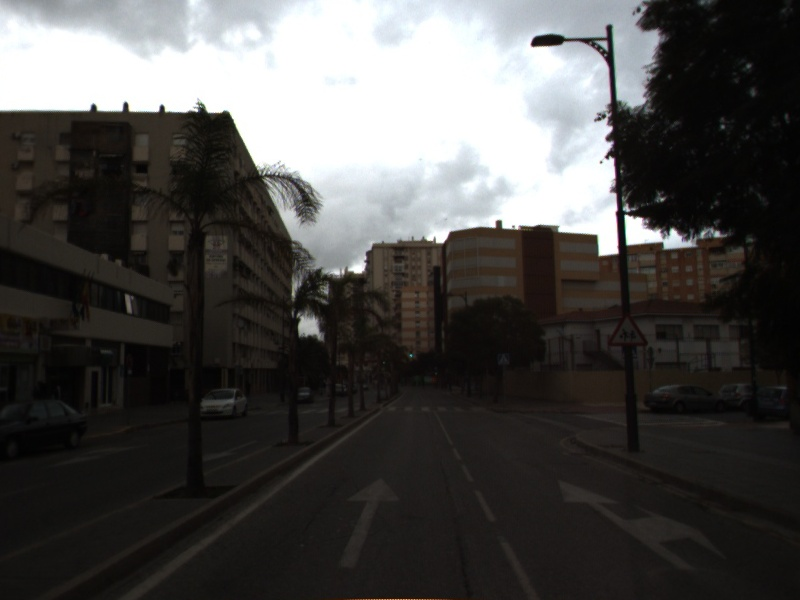STRAIGHT: (335, 475, 403, 571)
STRAIGHT_RIGHT: (555, 477, 730, 575)
